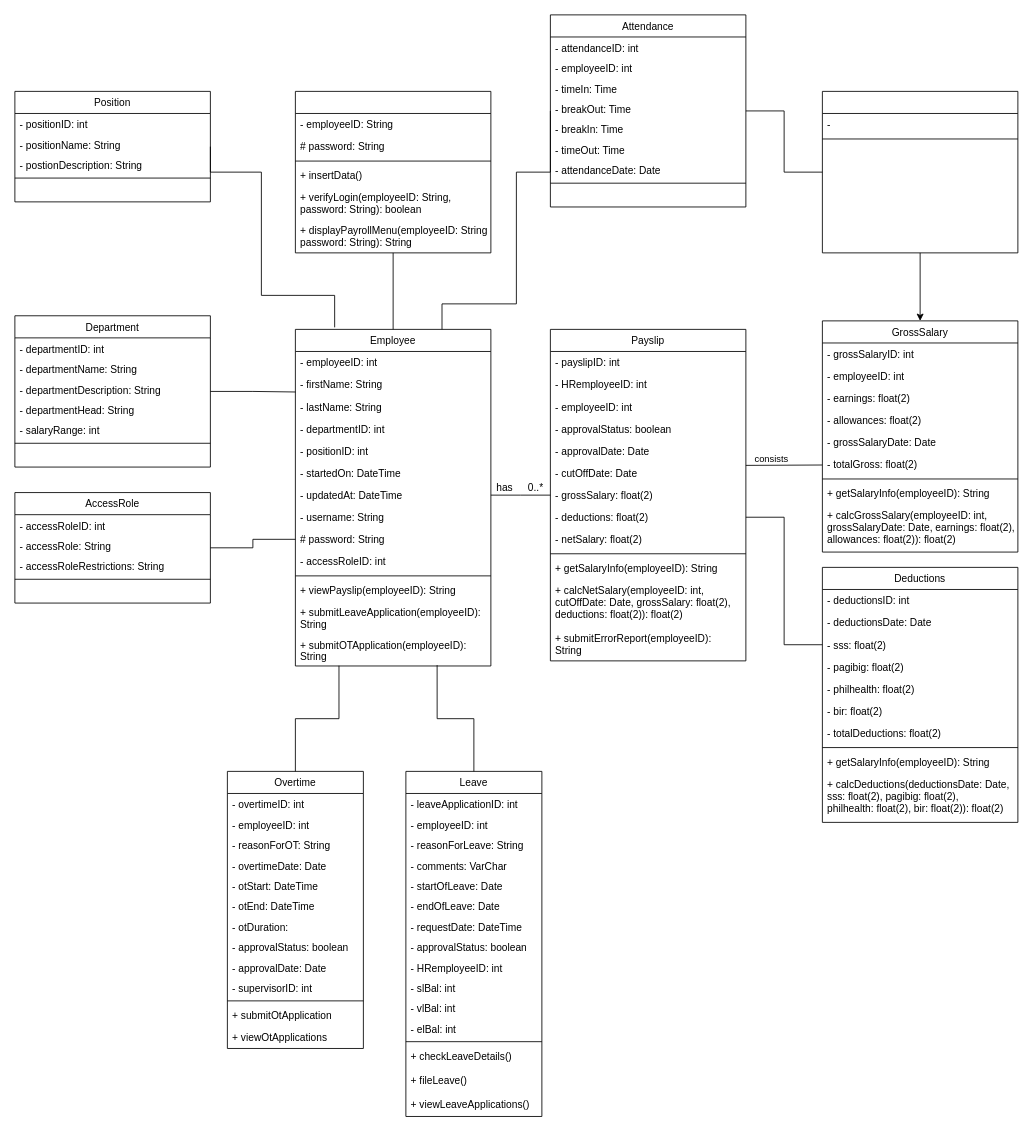
Image size: 1033x1134. Some labels were removed from this diagram. The box of each missing label's shape, as (x1, y1, x2, y2) in pixels:
HoursWorked: (822, 91, 1018, 253)
UserLogin: (295, 91, 491, 253)
